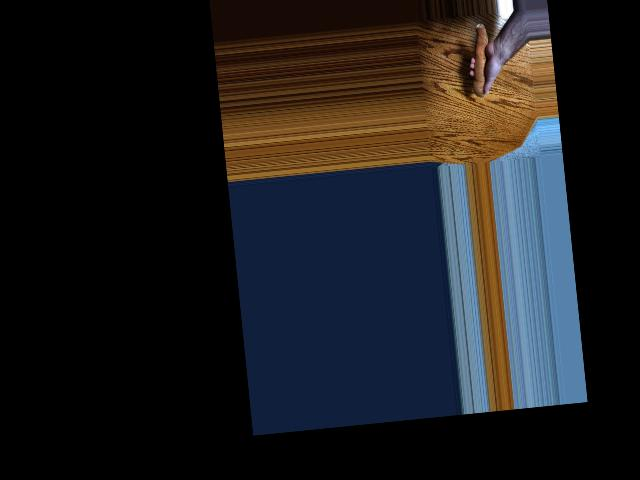sweet_potato: (464, 23, 495, 96)
